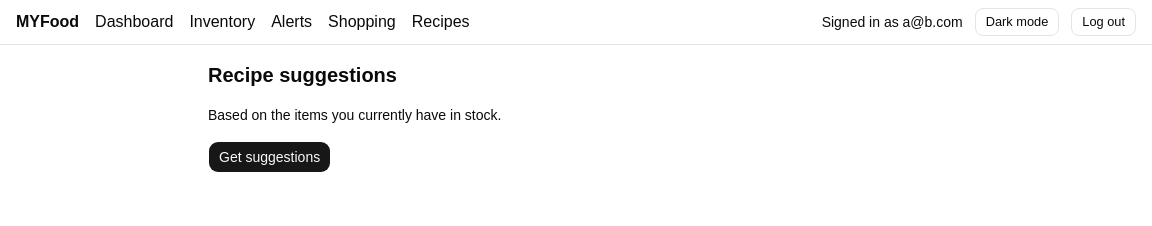
it: recipes › shows empty state
Step 1. Click the button "Get suggestions" → (270, 157), box [208,141,331,173]
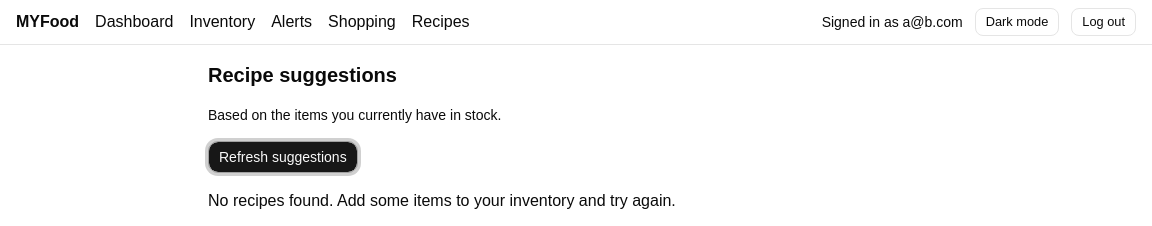
Now the text "No recipes found" is shown, box [208,192,676,209]
